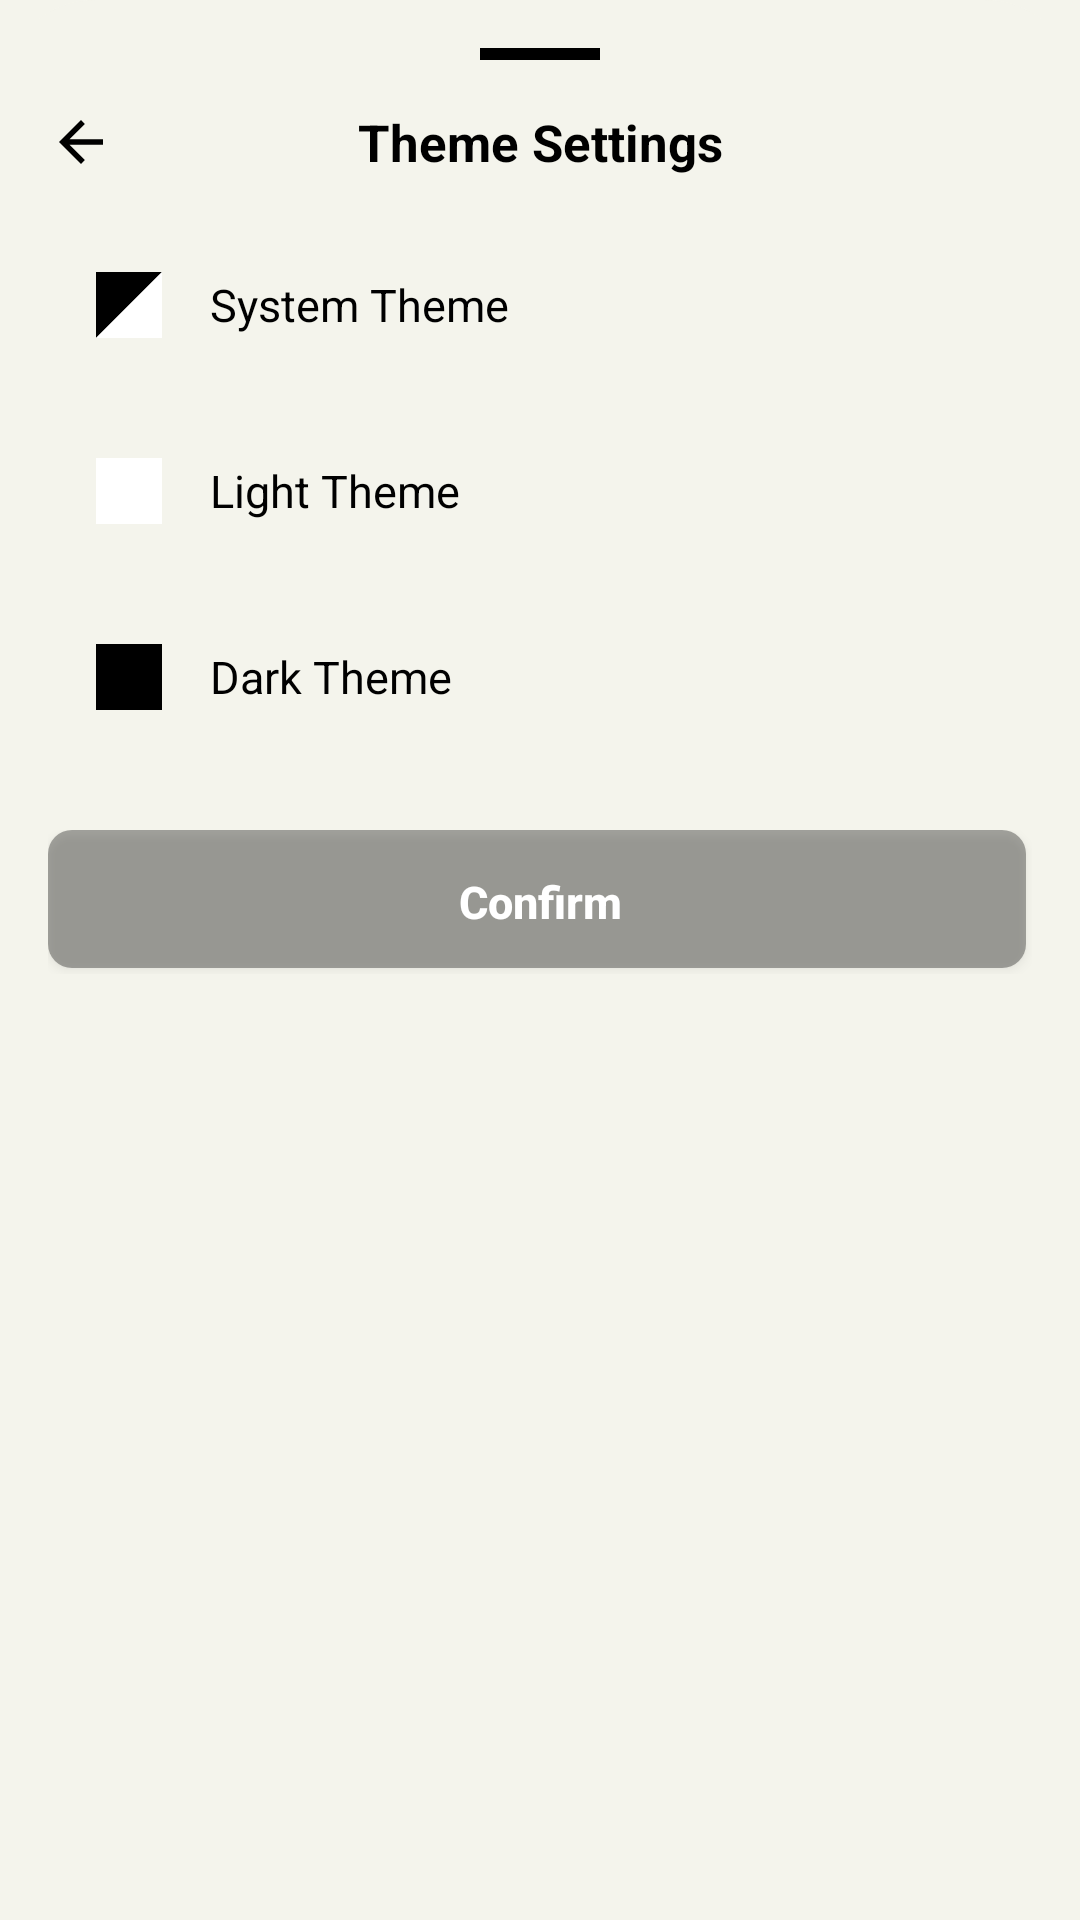

Icon click points for this 1080px x 1920px phone screenshot, format (x=x, y=y):
Back: (x=81, y=142)
half square: (x=129, y=305)
